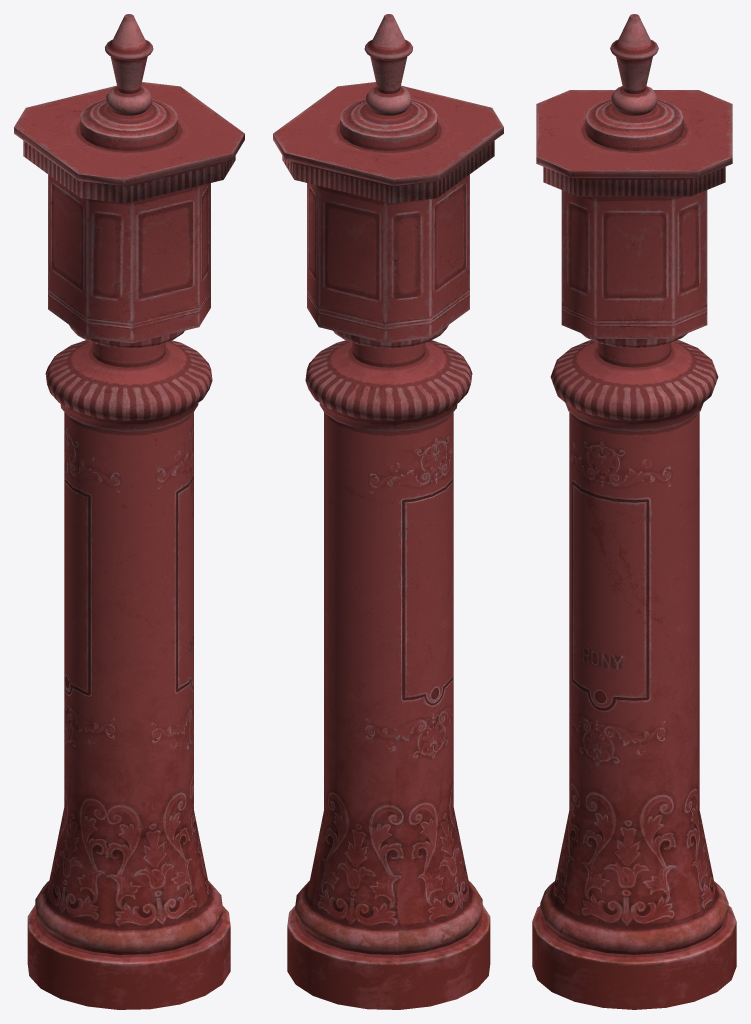
The model's file is Hydrant_02.fbx.
3 views of the same model, side by side, from view 1: azimuth 30°, elevation 25°; view 2: azimuth 150°, elevation 25°; view 3: azimuth 270°, elevation 25° (orthographic).
Parts seen in each view (by area): view 1: Hydrant_02_LOD0; view 2: Hydrant_02_LOD0; view 3: Hydrant_02_LOD0.
Part boxes in pixels (<box>): Hydrant_02_LOD0: <box>14,14,244,1009</box>; Hydrant_02_LOD0: <box>273,14,503,1009</box>; Hydrant_02_LOD0: <box>532,14,736,1009</box>.
Size of what is drawn, in the model's own units: 36.32 by 187 by 36.32.
